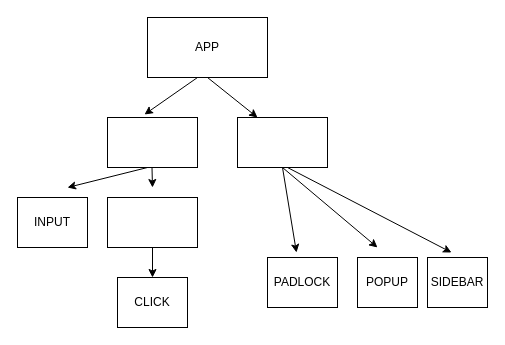
The diagram is 505 pixels wide and 345 high, and some of its shapes have lost their labels. The centre of each missing label's shape, as x and y in pixels:
"HOW TO PLAY" goes at [152,222].
"STAGES" goes at [282,142].
"START SCREEN" goes at [152,142].
